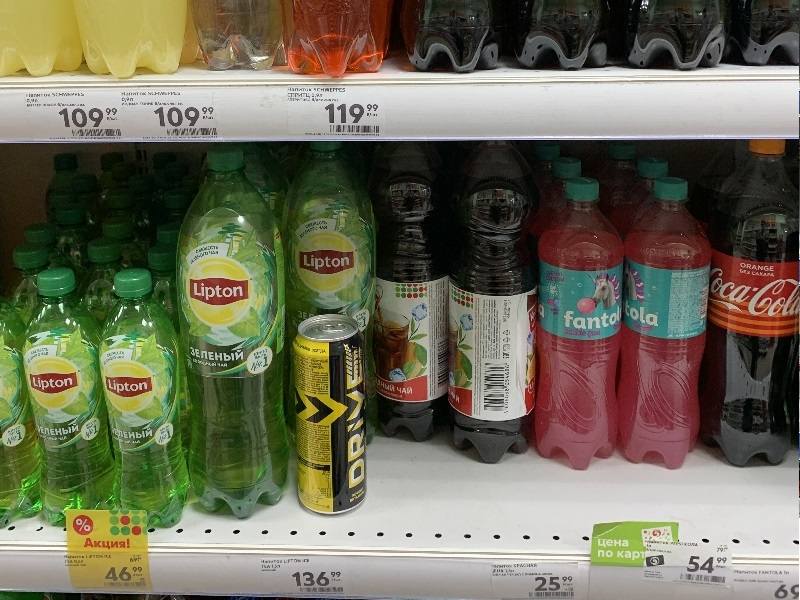lemonade: (177, 151, 310, 524), (700, 133, 799, 472), (448, 140, 549, 463), (617, 177, 724, 472), (23, 266, 130, 528), (97, 268, 192, 537), (541, 178, 624, 474)
